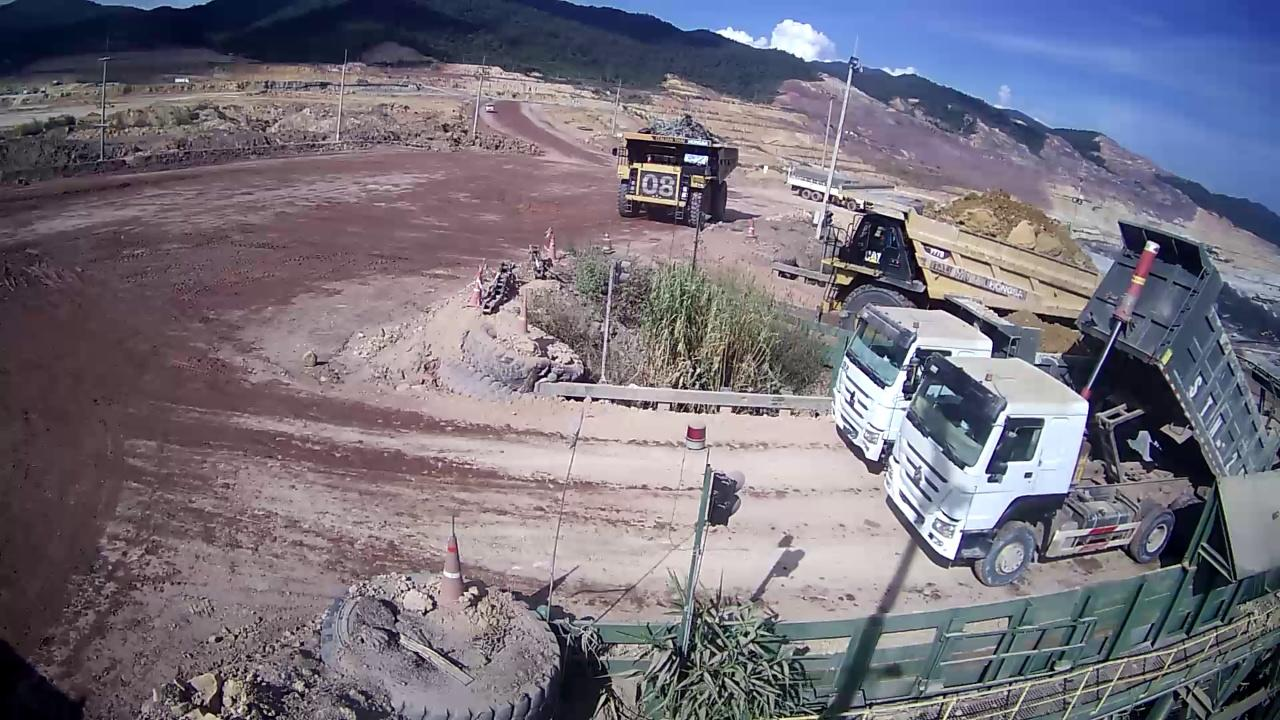company: (931, 262, 1039, 299)
front_number: (640, 168, 676, 201)
full_load: (927, 182, 1093, 236), (648, 112, 716, 141)
mining_truck: (828, 177, 1110, 326), (611, 111, 742, 233)
truck_size: (917, 242, 953, 261)
